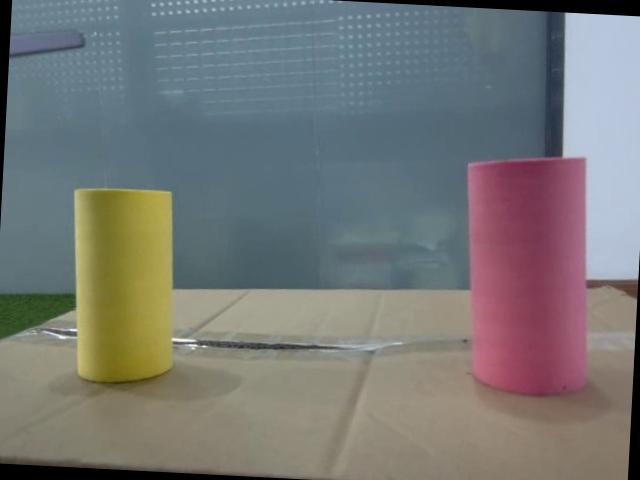red_cylinder: (449, 148, 611, 402)
yellow_cylinder: (62, 181, 189, 388)
